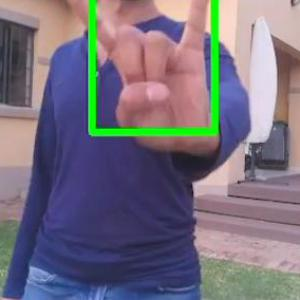takeoff-hand: (53, 0, 214, 134)
